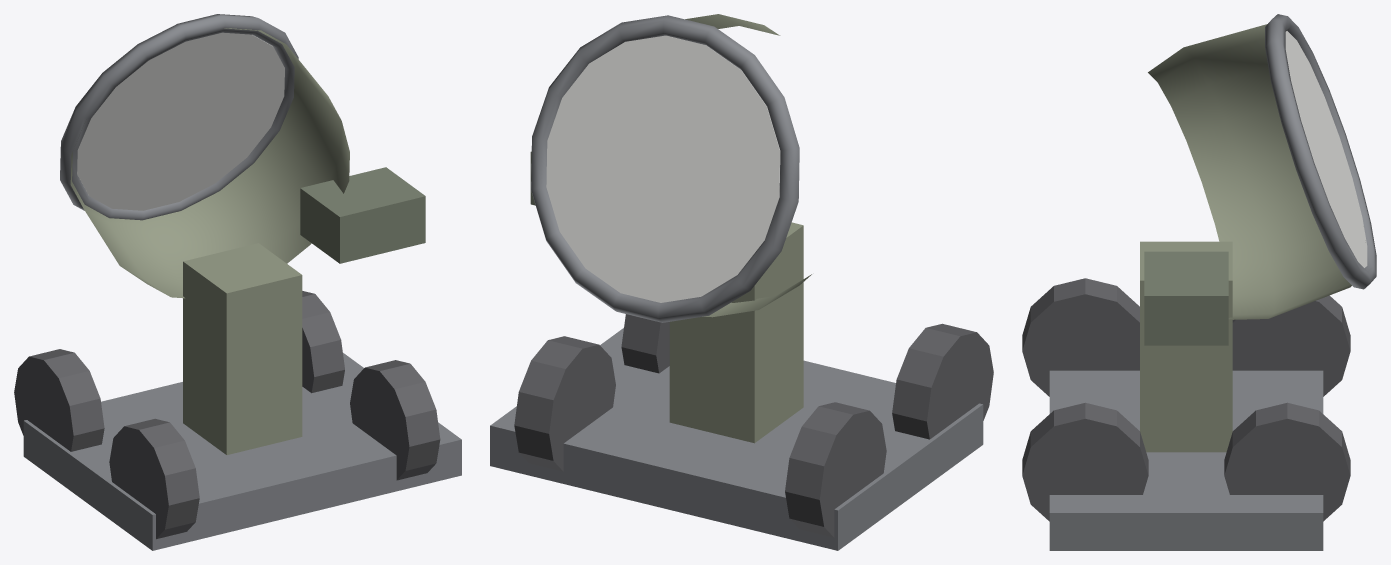
3 renders of one model, left to right at view 1: azimuth 30°, elevation 25°; view 2: azimuth 150°, elevation 25°; view 3: azimuth 270°, elevation 25°, orthographic. The views are drawn at different scales.
Parts seen in each view (by area): view 1: searchlight, lamp (×3); view 2: searchlight, lamp (×3); view 3: searchlight, lamp (×3).
Part boxes in pixels (<box>): searchlight: <box>14,167,461,550</box>; lamp (×3): <box>60,14,349,298</box>; searchlight: <box>490,151,993,550</box>; lamp (×3): <box>531,14,811,322</box>; searchlight: <box>1022,241,1350,550</box>; lamp (×3): <box>1148,14,1376,319</box>.
Size of the model in its own units: 1.85 by 2.31 by 1.68.
